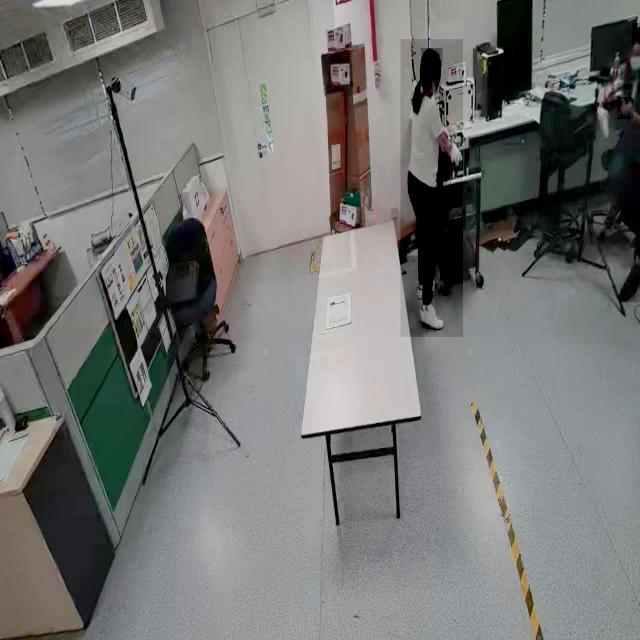hand_glove: (448, 137, 464, 182)
hand_noglove: (617, 97, 633, 120)
head_nohelmet: (420, 48, 442, 67), (632, 23, 640, 45)
person: (400, 39, 463, 338)
shoes: (419, 299, 447, 334)
